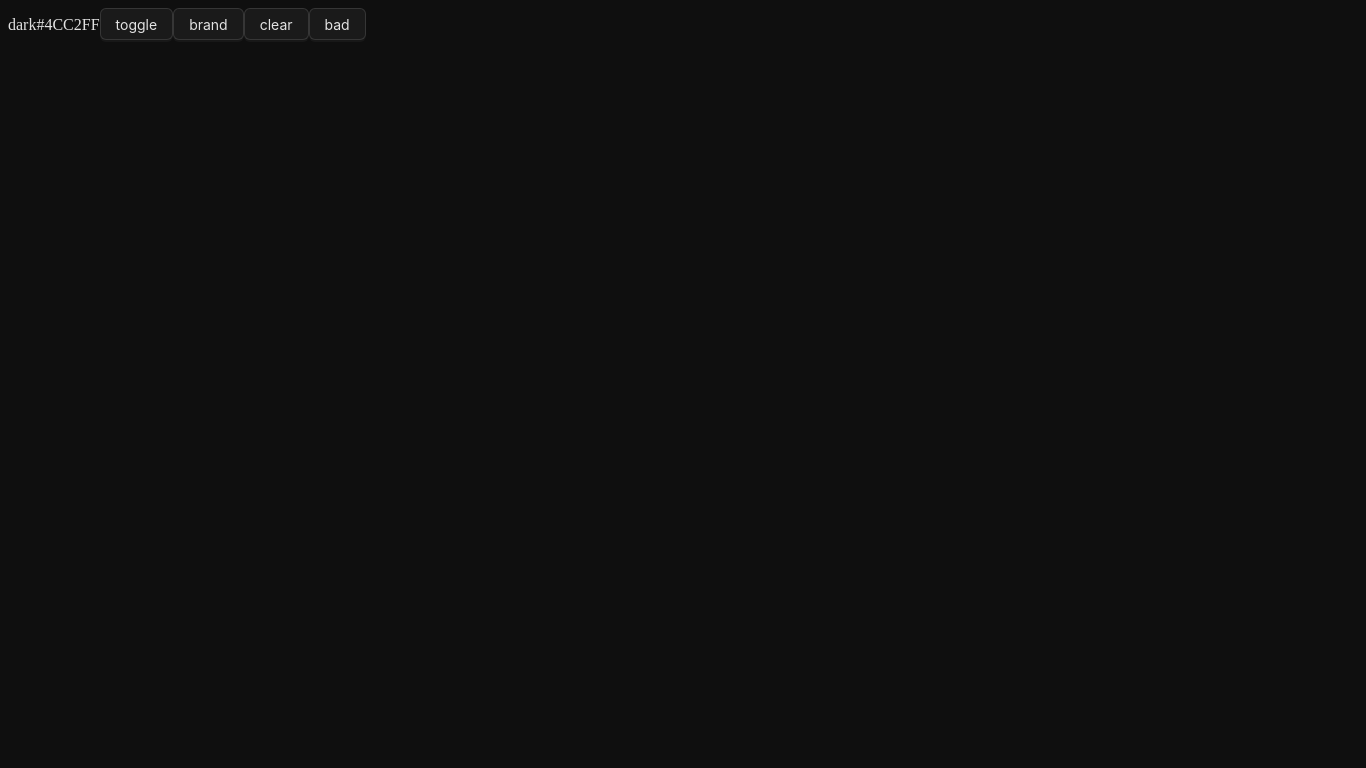
ThemeProvider › toggleMode flips dark↔light, persists, and writes data-theme on <html>
Click the button with test id "toggle".
click(136, 24)  # box [100, 8, 173, 40]
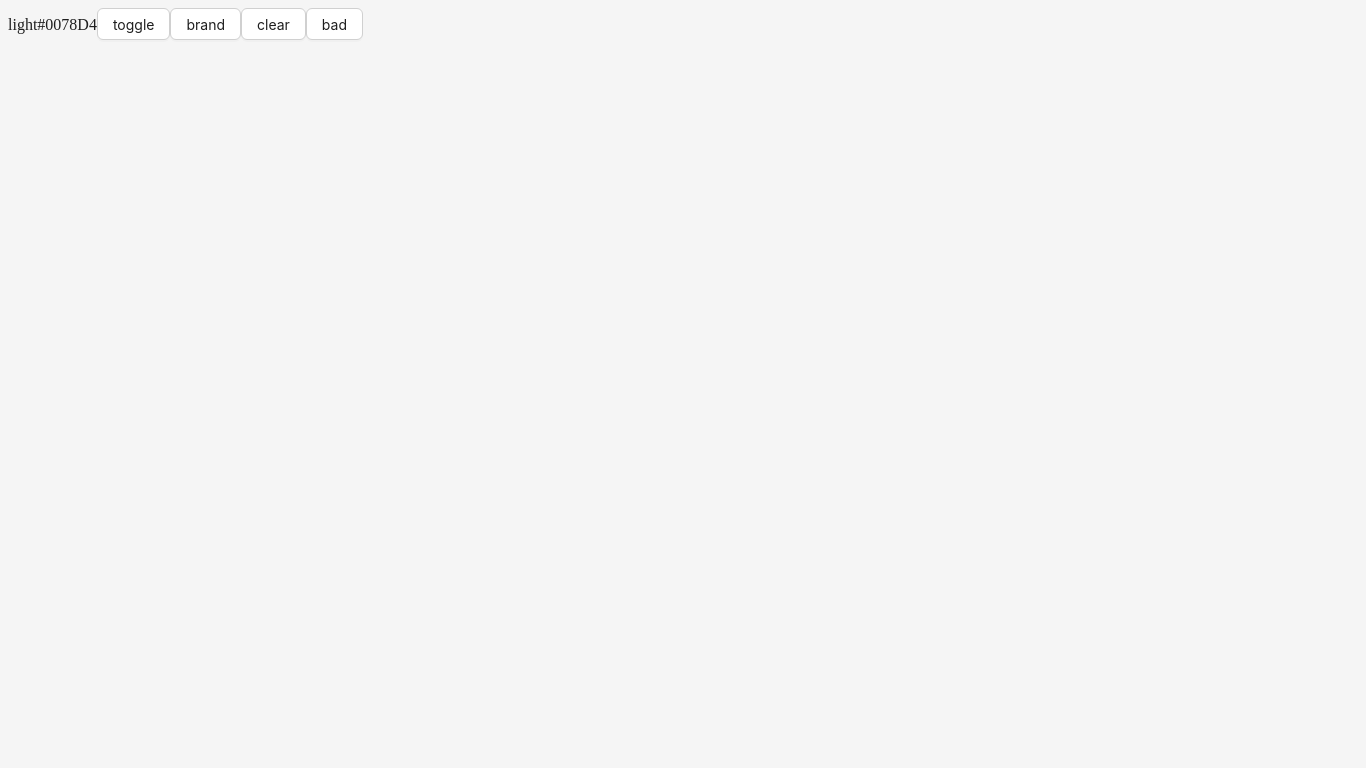
Expected: the text with test id "mode" reads "light", [8, 16, 37, 32]
Click the button with test id "toggle".
click(134, 24)  # box [97, 8, 170, 40]
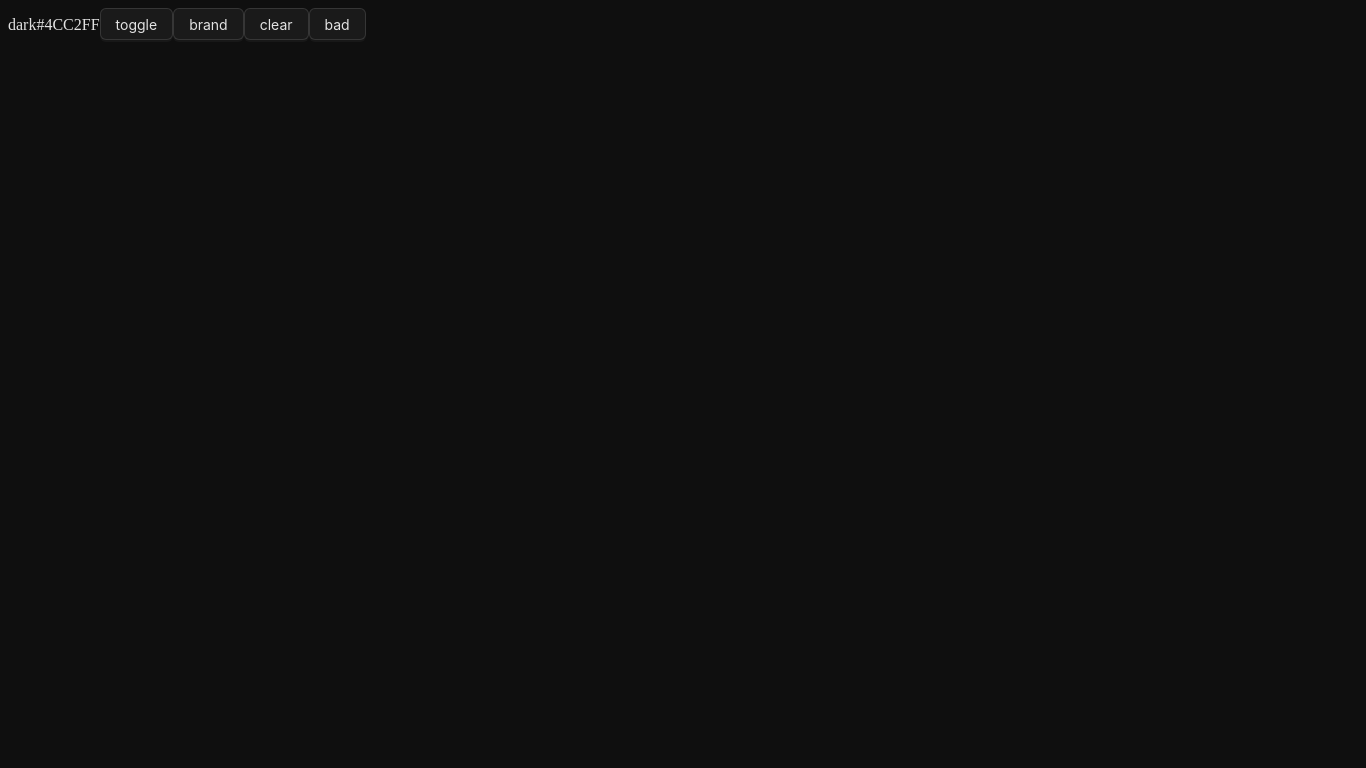
Expected: the text with test id "mode" reads "dark", [8, 16, 36, 32]
